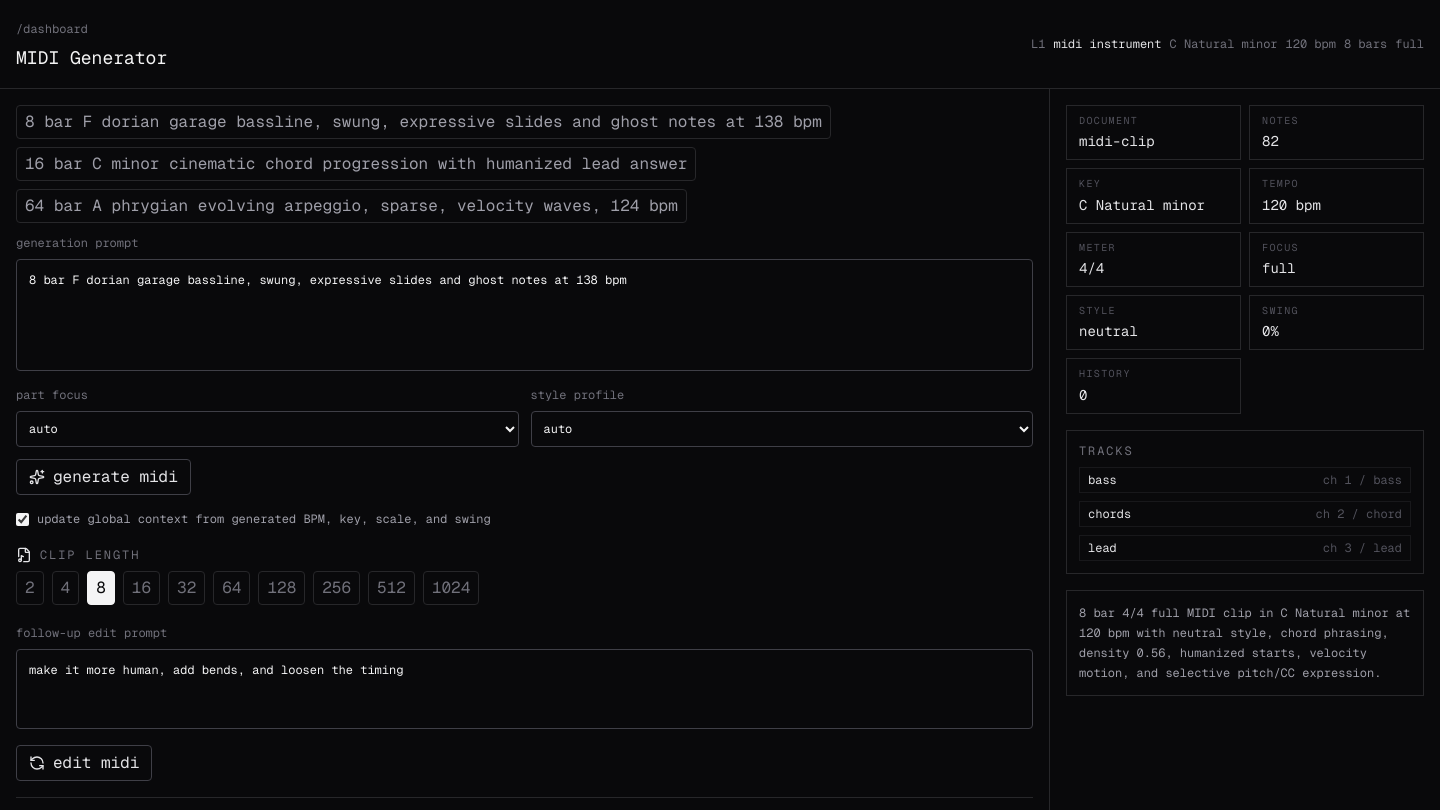
Test: MidiGeneratorClient › renders the standalone MIDI clip instrument and generates prompted clips
The image size is (1440, 810).
Check: the heading "MIDI Generator" is shown, box 16,44 -> 167,72
Check: the text "document" is shown, box 1079,114 -> 1138,127
Replace the text in the text box labelled "generation prompt" with "2 bars in Bb melodic minor at 96 bpm straight expressive lead" at point(524, 315), box 16,259 -> 1033,371
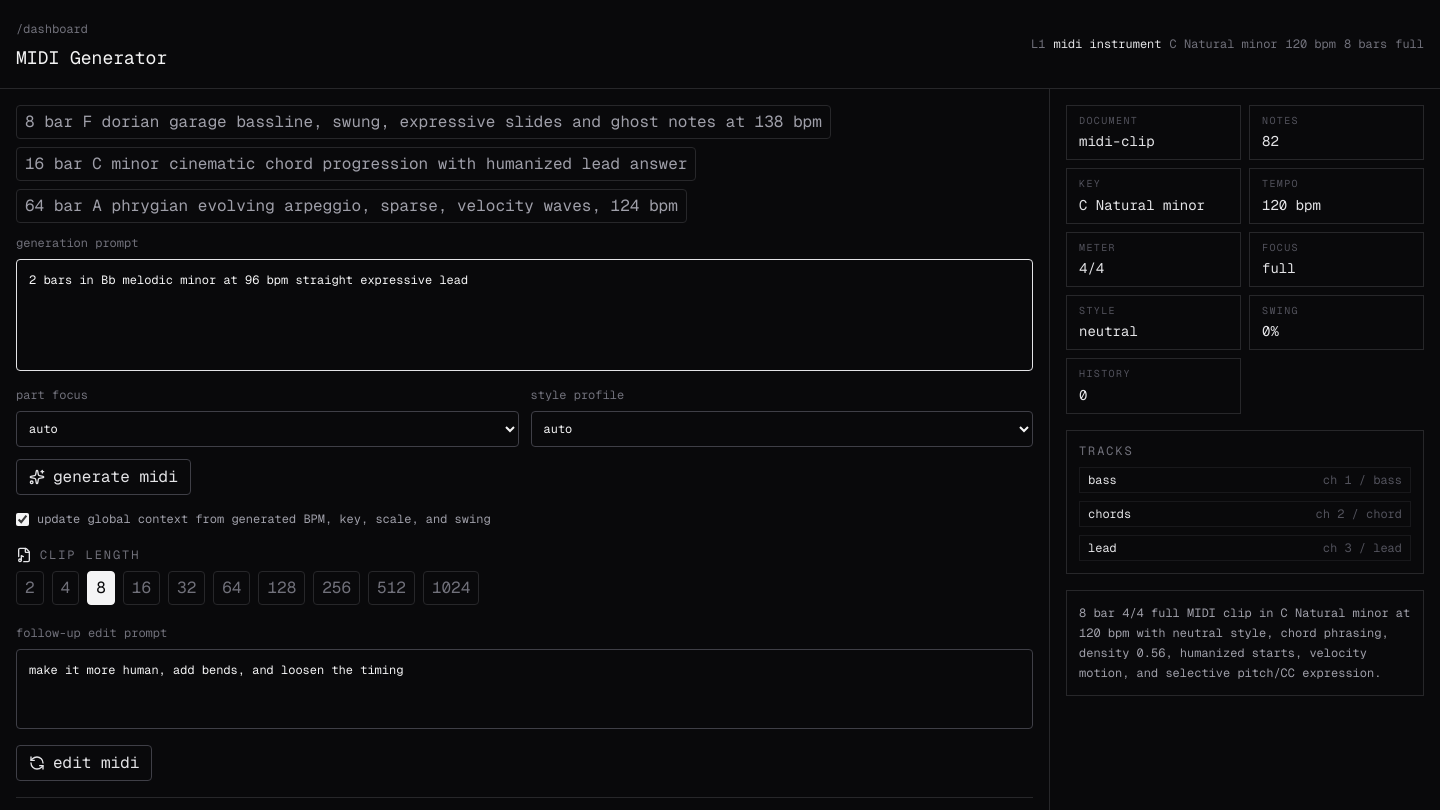
Click the button "generate midi" at point(103, 477), box 16,459 -> 191,495
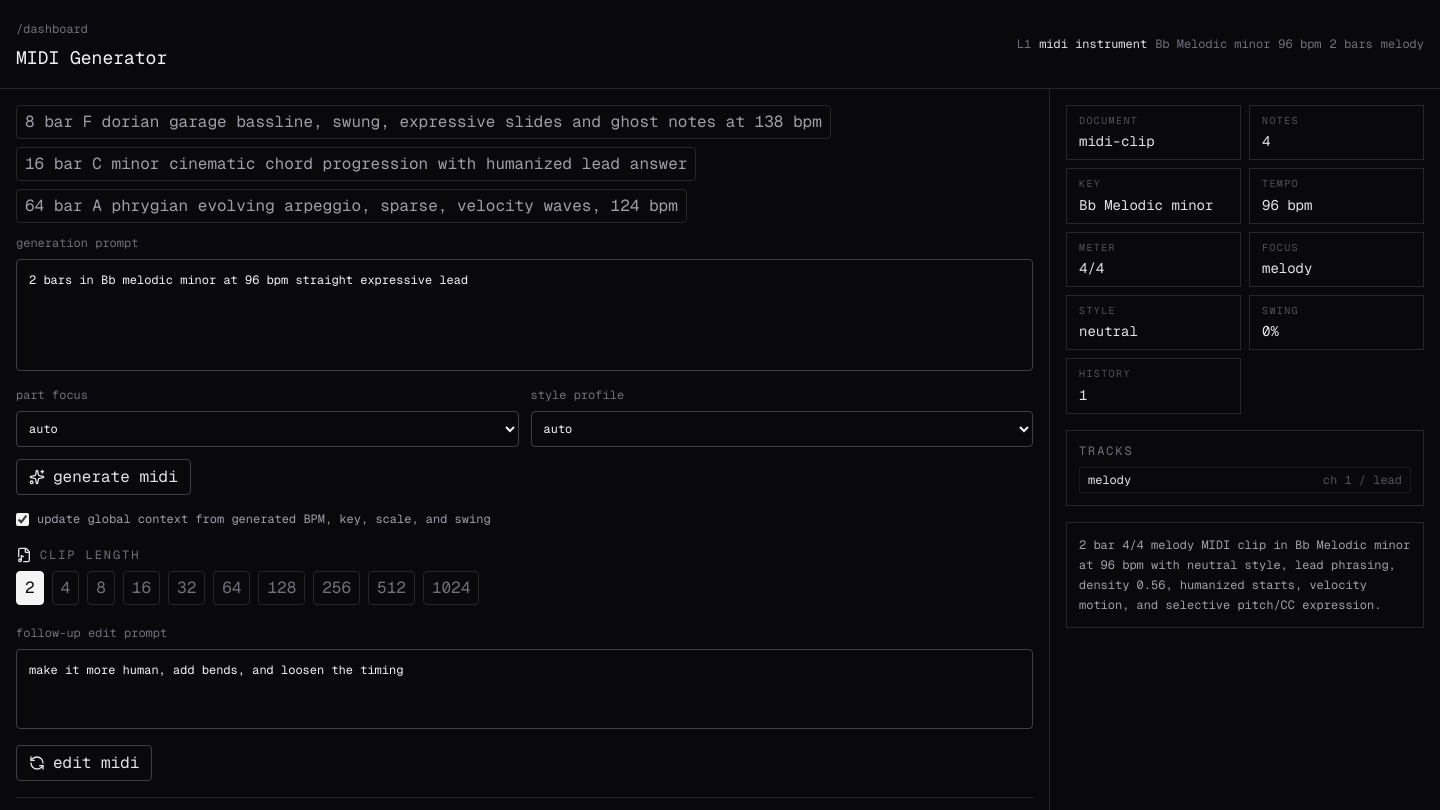
Check: the text "96 bpm" in the row of "midi instrument" is shown, box 1278,36 -> 1322,52
